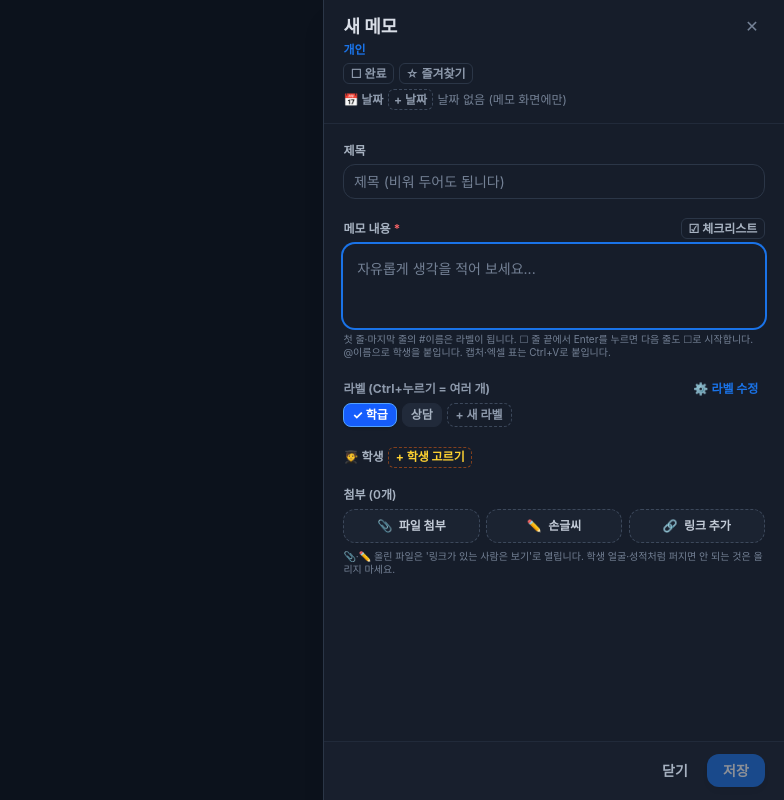
Test: 새 메모 › 날짜 없는 새 메모 = date null, 메모 목록 맨 앞(최근 것이 맨 위 - P11-1). 날짜 칩을 더했다 빼면 그대로
Check: the text "날짜 없음 (메모 화면에만)" is shown, box [438, 92, 567, 108]
Click the button "+ 날짜": (410, 100) [388, 89, 433, 110]
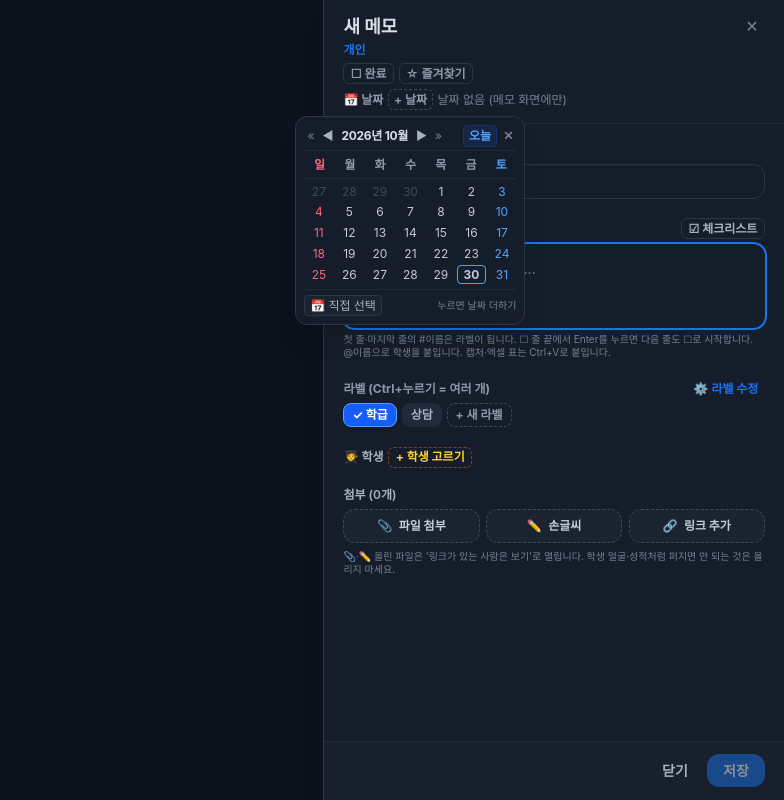
Click the button "오늘": (480, 136) [463, 125, 497, 147]
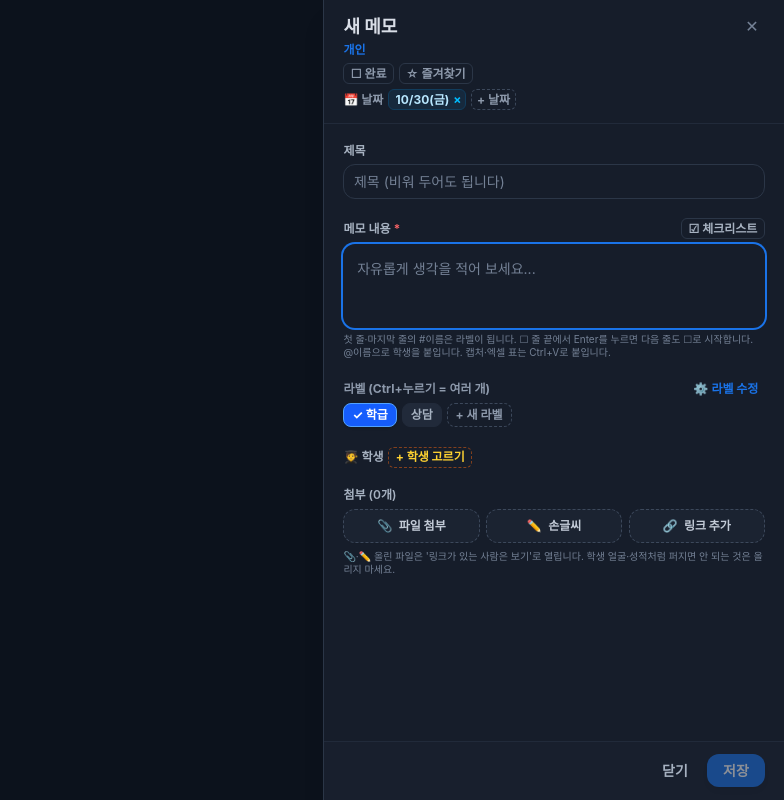
Click the button "×": (457, 100) [451, 93, 464, 106]
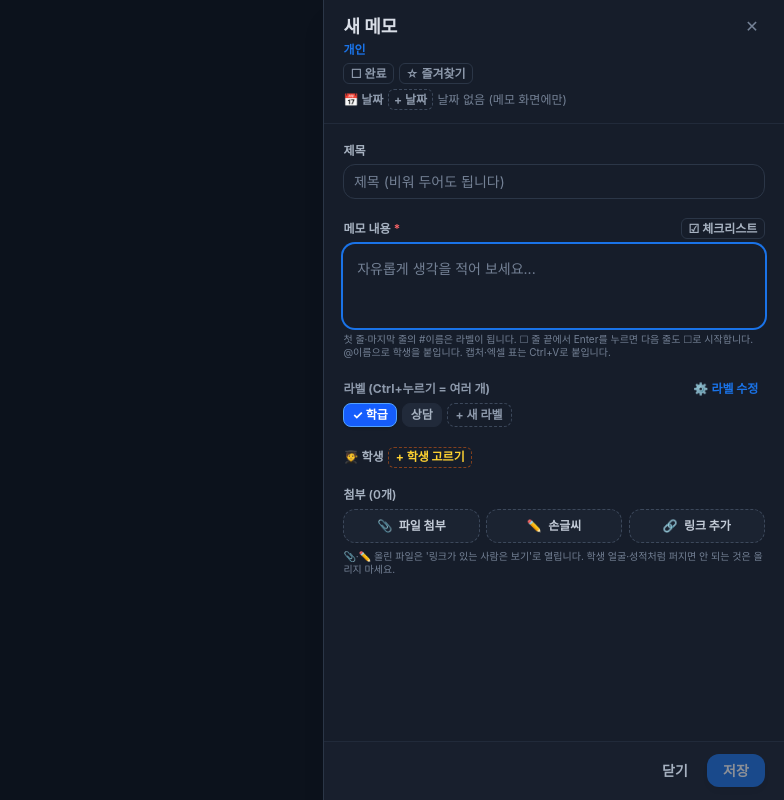
In the text box with placeholder "자유롭게 생각을 적어 보세요...": (554, 286) [343, 244, 765, 328], type "메모 둘"
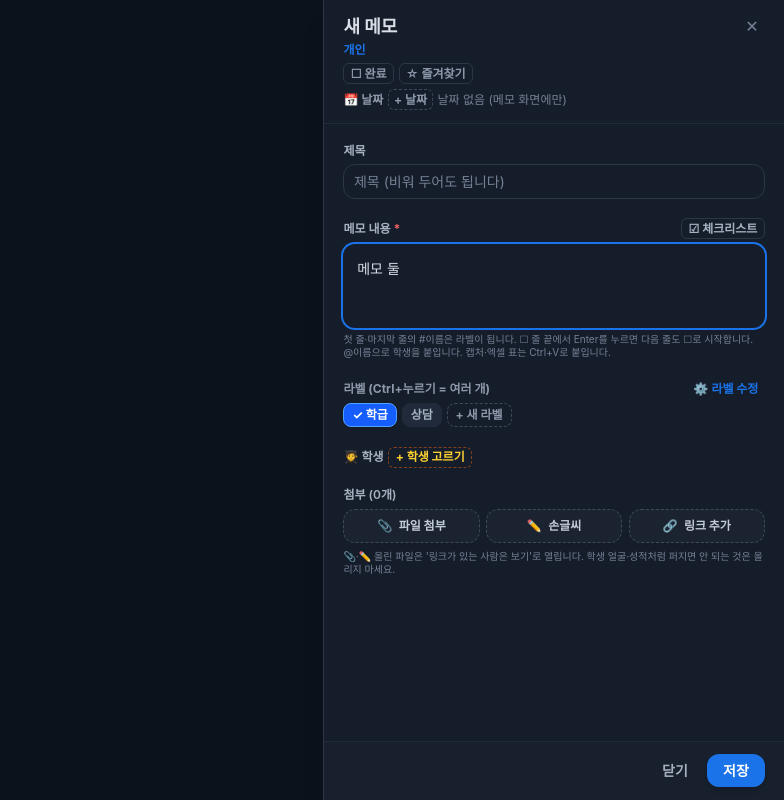
Click the button "저장": (736, 771) [707, 754, 765, 787]
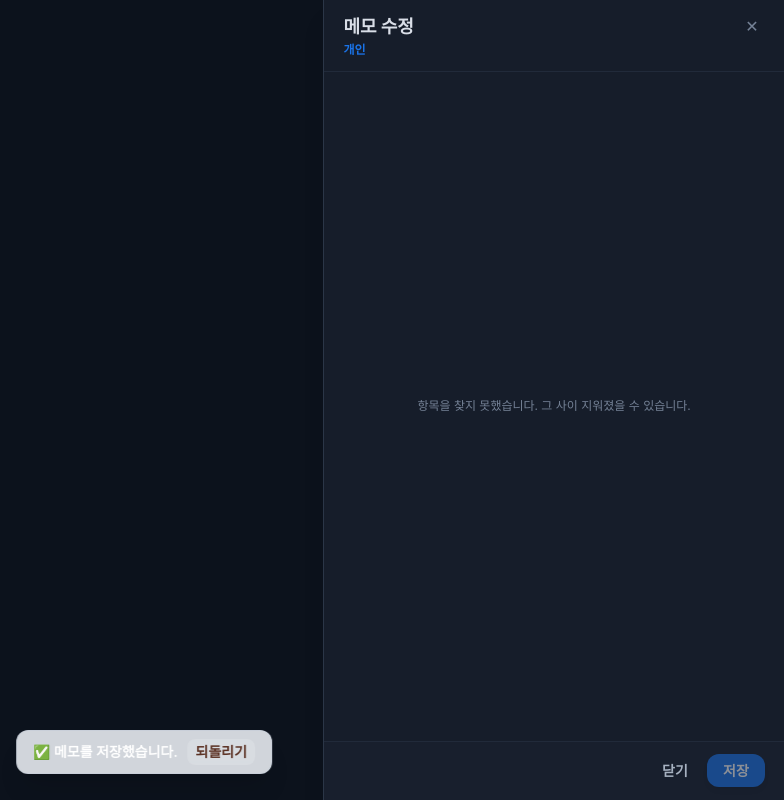
Check: the message "✅ 메모를 저장했습니다. 되돌리기" is shown, box [16, 730, 272, 774]
